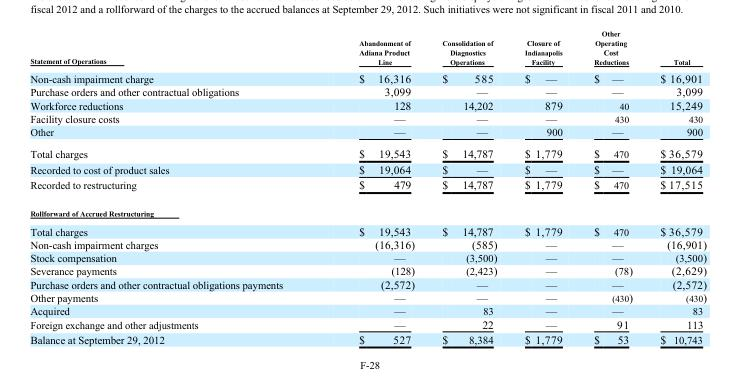table: (29, 29, 705, 345)
table column: (29, 29, 320, 345), (320, 29, 427, 345), (427, 29, 510, 345), (577, 29, 645, 345), (510, 29, 577, 345), (645, 29, 705, 345)
table column header: (29, 29, 705, 68)
table projected row header: (29, 199, 705, 220)
table row: (29, 29, 705, 68), (29, 176, 705, 199), (29, 199, 705, 220), (29, 142, 705, 161), (29, 124, 705, 142), (29, 220, 705, 237), (29, 68, 705, 84), (29, 161, 705, 176), (29, 84, 705, 98), (29, 250, 705, 264), (29, 303, 705, 317), (29, 317, 705, 331), (29, 331, 705, 345), (29, 98, 705, 111), (29, 111, 705, 124), (29, 237, 705, 250), (29, 264, 705, 277), (29, 277, 705, 290), (29, 290, 705, 303)
